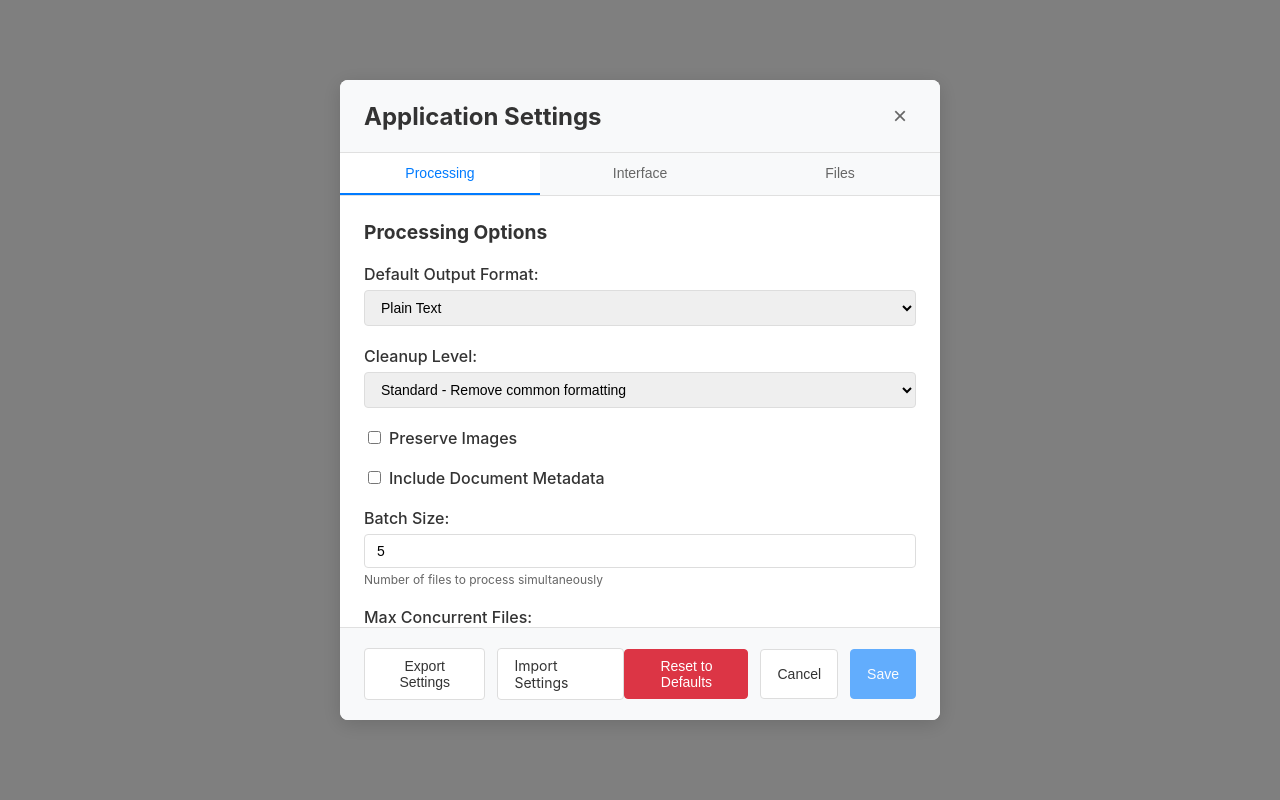
SettingsPanel Component › file settings › should display current file settings
// Switch to Files tab
Click the button "Files" at (840, 174), box [740, 153, 940, 195]
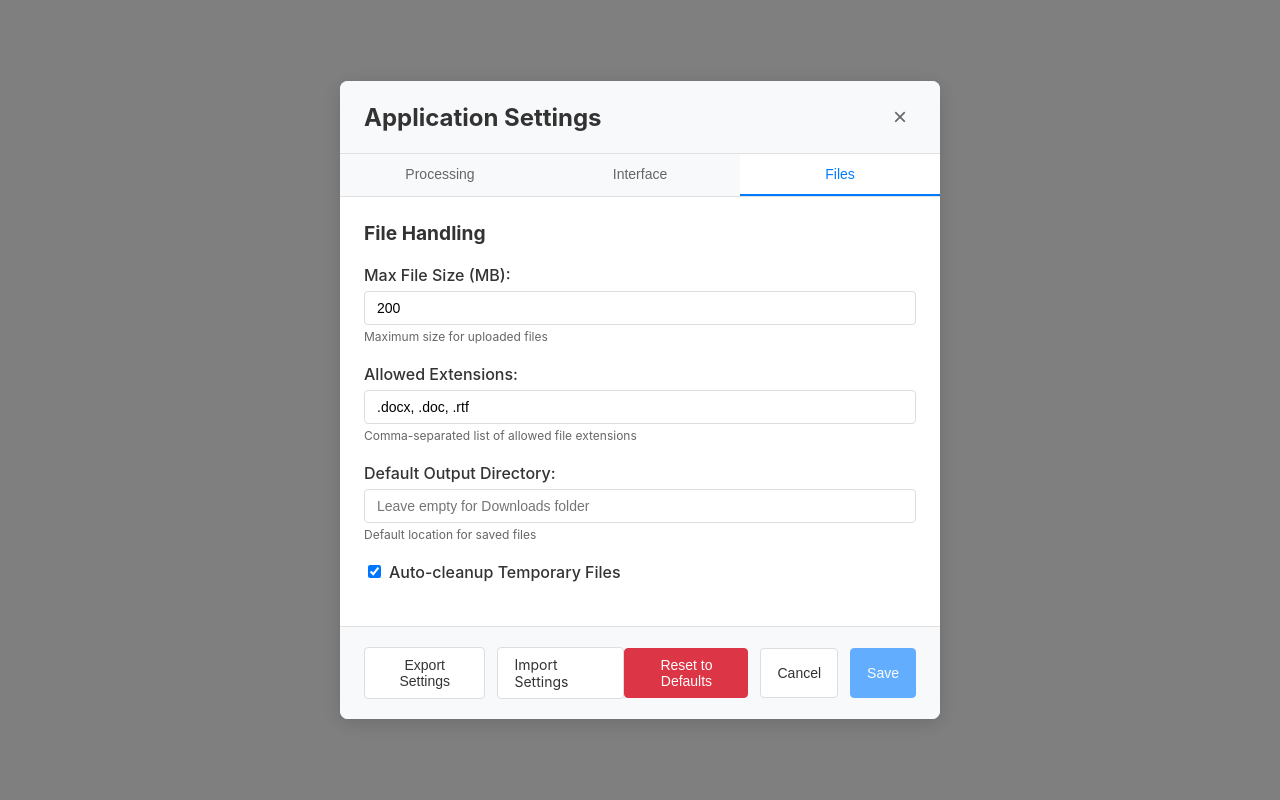
Check: the number field showing "200" is shown, box [364, 291, 916, 325]
Check: the field showing ".docx, .doc, .rtf" is shown, box [364, 390, 916, 424]
